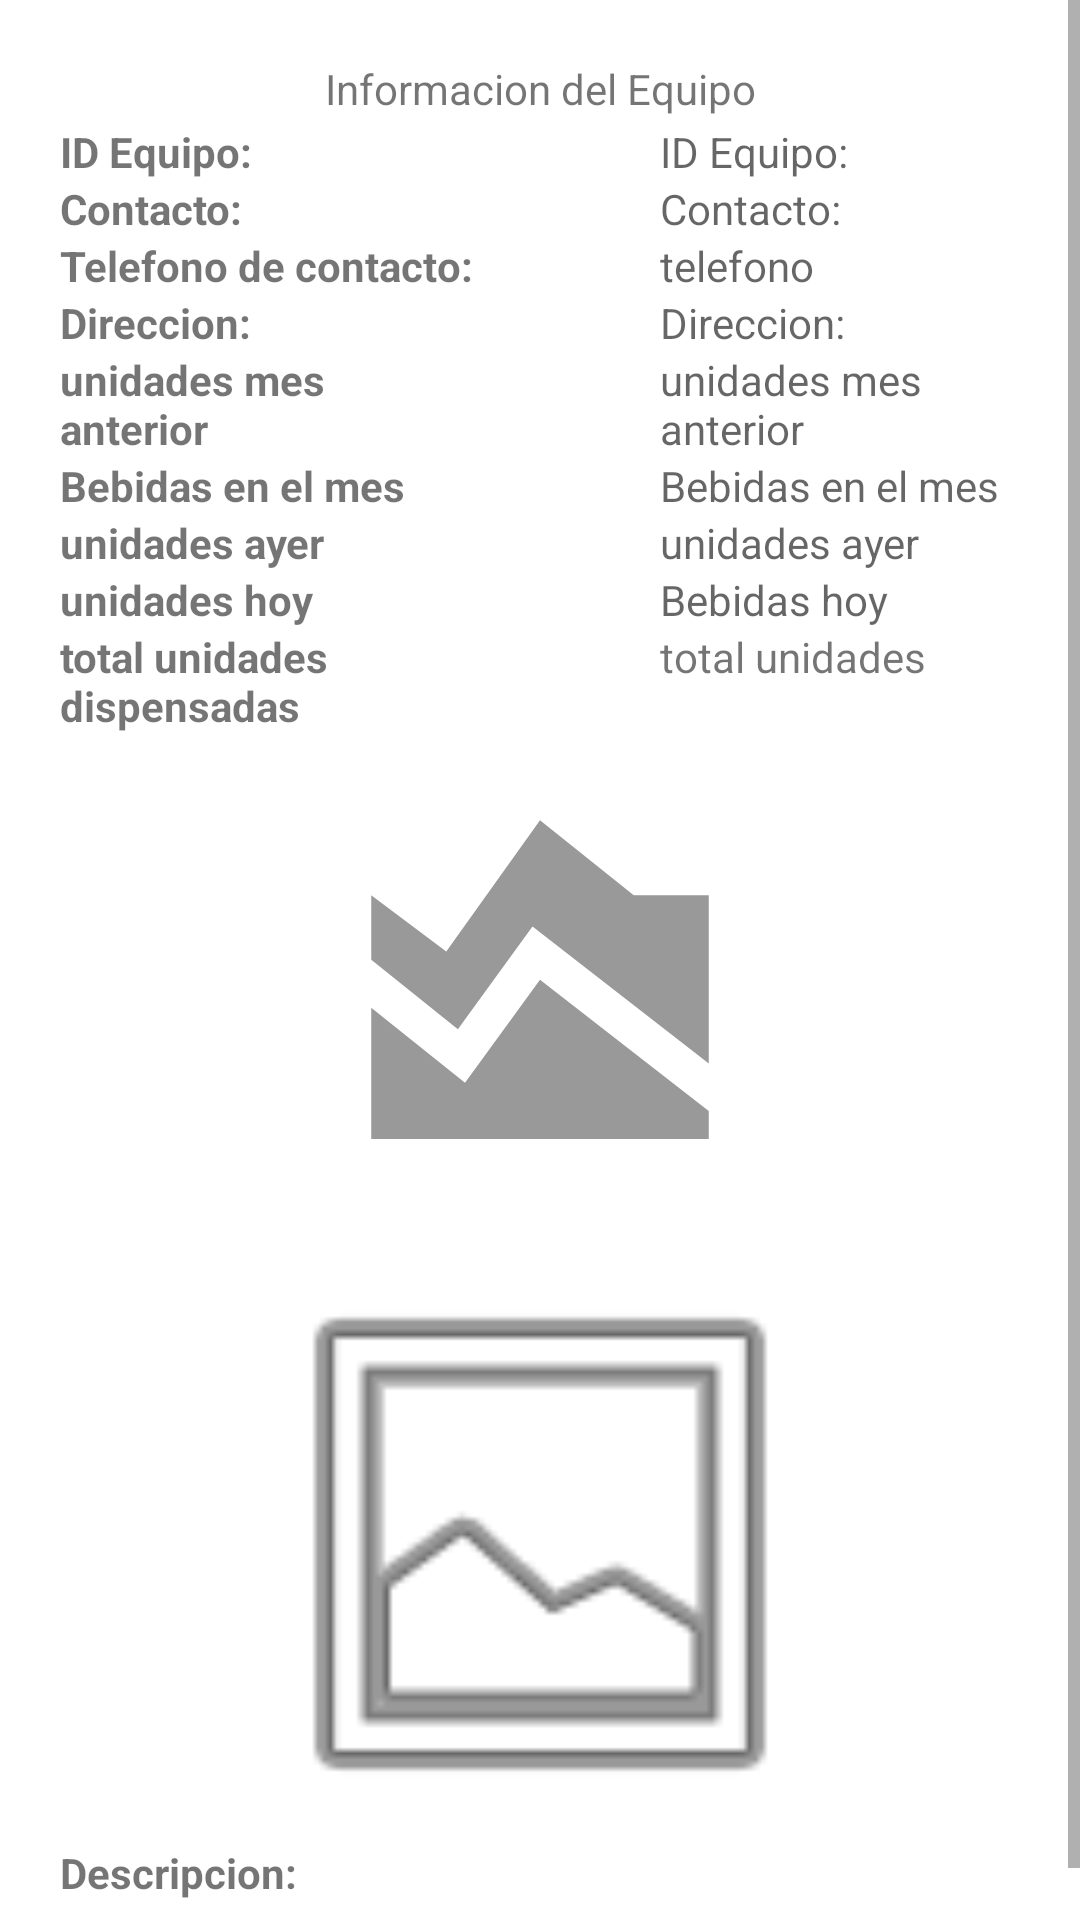

Icons on this 1080px×1920px Android screen, each with the point to tap as [x,y]:
graficas: [540,979]
